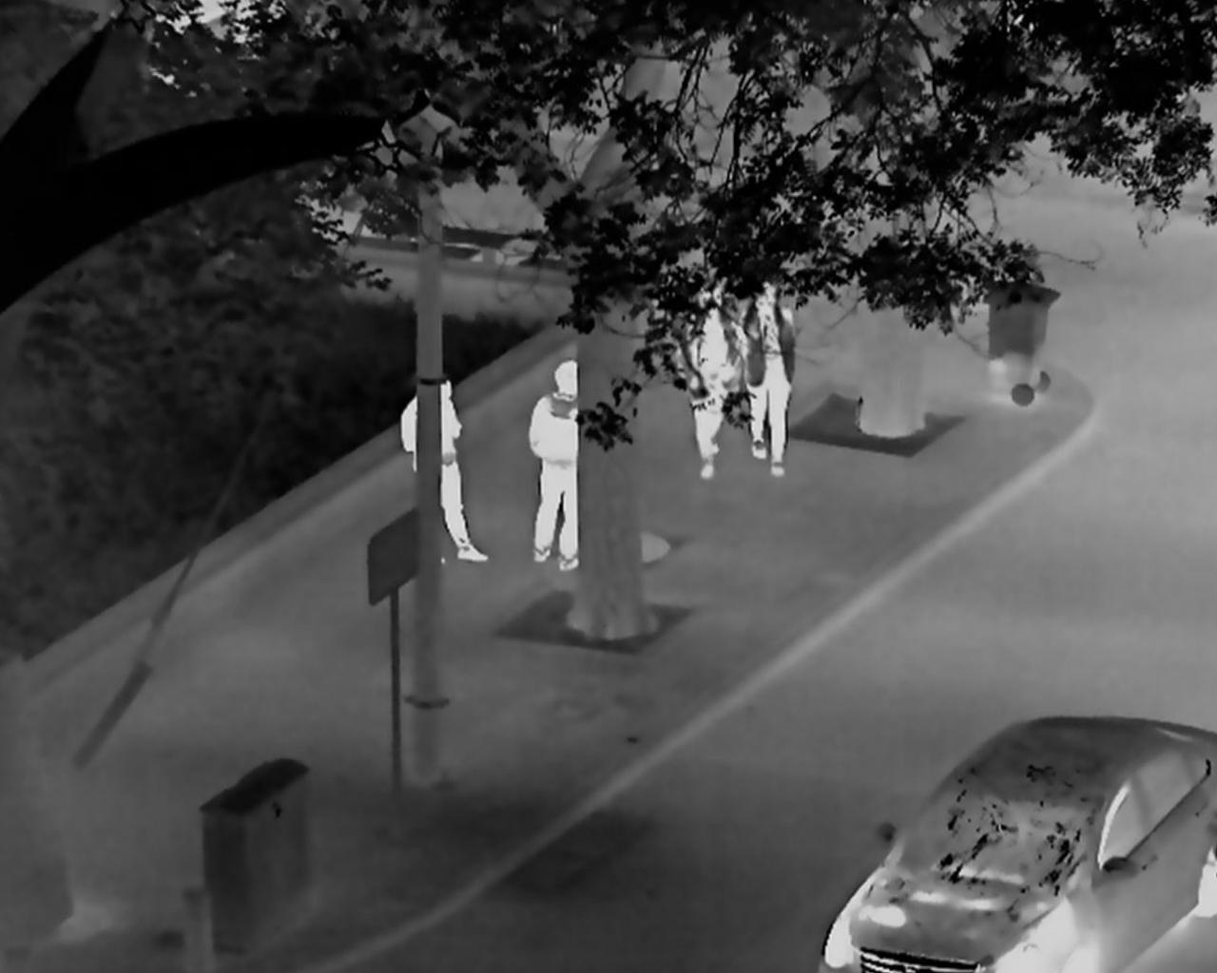person: (400, 379, 489, 563), (675, 281, 744, 481), (529, 359, 580, 572), (743, 283, 798, 475)
